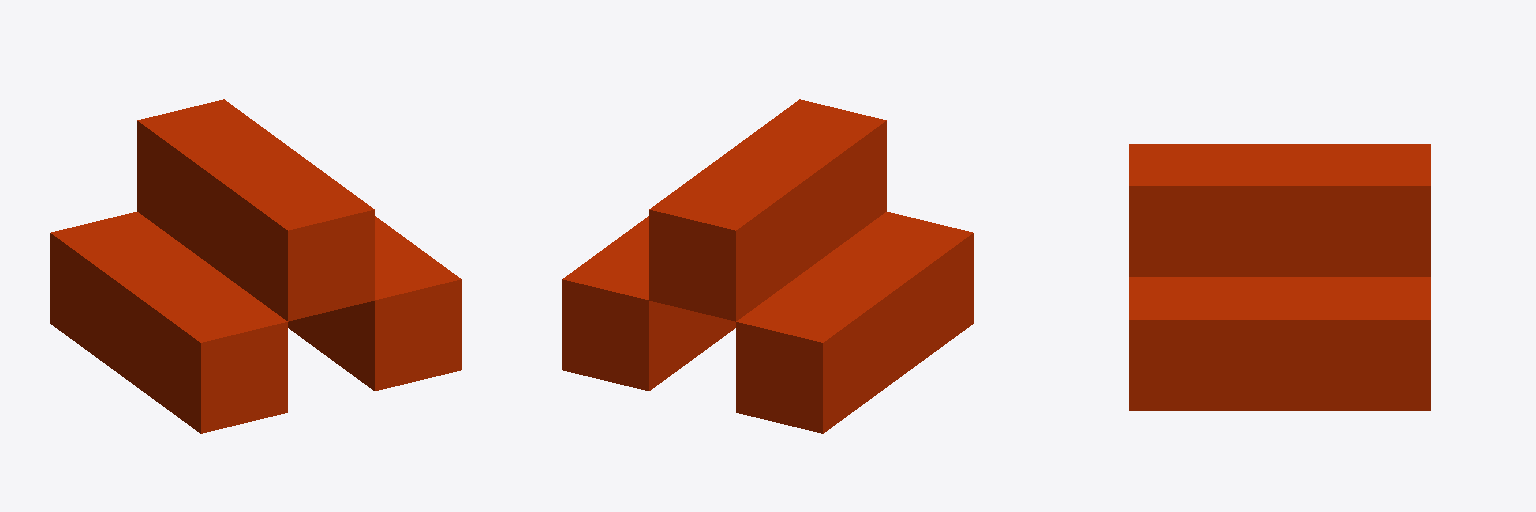
File: tent_blend_8.obj
The picture shows the model from 3 angles: view 1: azimuth 30°, elevation 25°; view 2: azimuth 150°, elevation 25°; view 3: azimuth 270°, elevation 25°; orthographic projection.
Visible parts, largest first — view 1: tent; view 2: tent; view 3: tent.
Part boxes in pixels (x1,y1,x2,y2): tent: (50, 99, 461, 433); tent: (562, 99, 973, 433); tent: (1129, 144, 1430, 410).
Bounding box in the file's own units: 1.5 × 1 × 1.5.